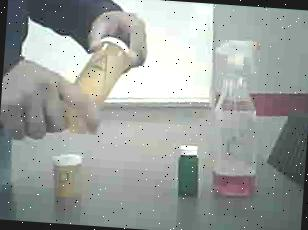Bottle A: (49, 22, 146, 143)
Bottle B: (48, 154, 90, 208)
Bottle C: (170, 140, 203, 201)
hazard: (204, 34, 280, 205)
